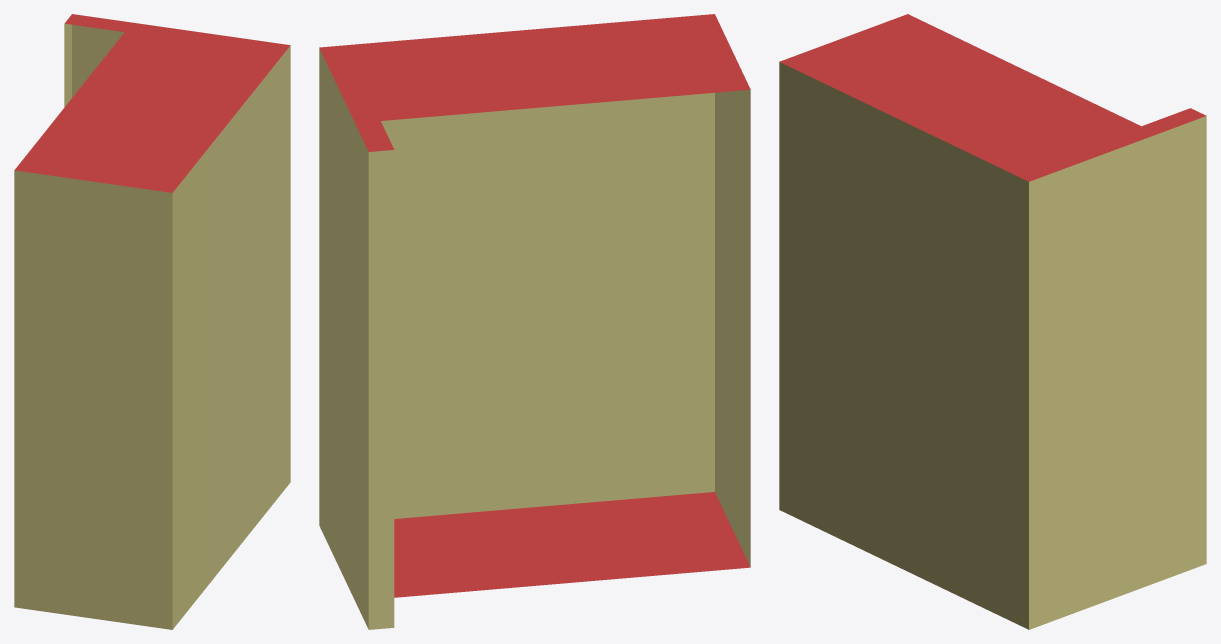
3 renders of one model, left to right at view 1: azimuth 30°, elevation 25°; view 2: azimuth 150°, elevation 25°; view 3: azimuth 270°, elevation 25°, orthographic. The views are drawn at different scales.
Parts seen in each view (by area): view 1: group_4, group_3; view 2: group_4, group_3, group_5; view 3: group_4, group_3.
Part boxes in pixels (left/top/right/bottom): group_4: left=14, top=23, right=290, bottom=629; group_3: left=14, top=14, right=290, bottom=192; group_4: left=319, top=48, right=750, bottom=629; group_3: left=319, top=14, right=750, bottom=151; group_5: left=394, top=492, right=750, bottom=597; group_4: left=779, top=62, right=1206, bottom=629; group_3: left=779, top=14, right=1206, bottom=181.
Bounding box in the file's own units: 6.19 × 6.66 × 7.7.
